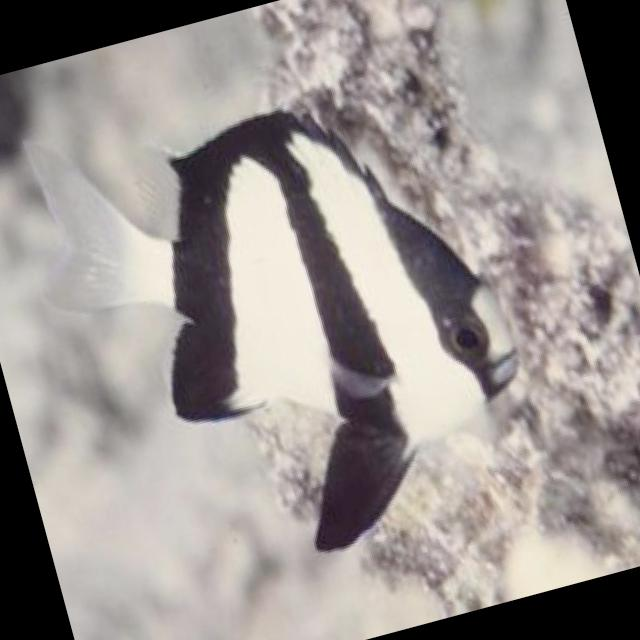Three_striped DasmselFish: (15, 32, 553, 607)
